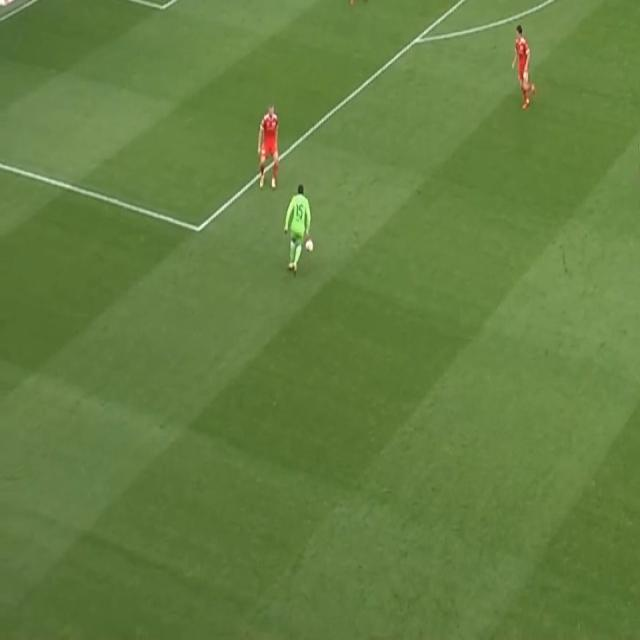ball: (305, 236, 314, 254)
